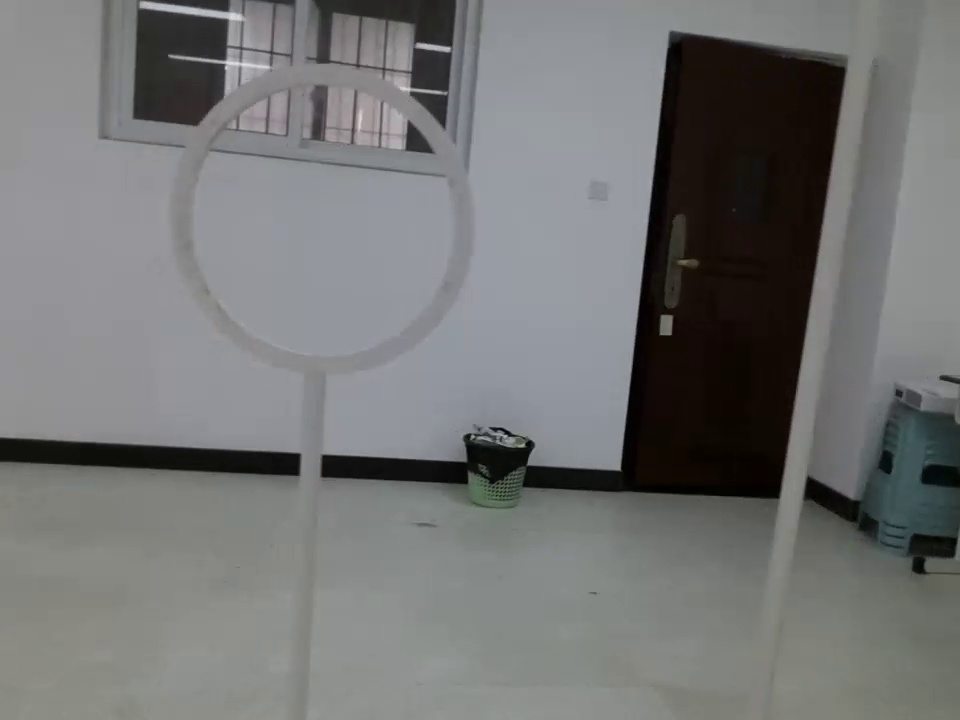quan: (141, 57, 483, 392)
